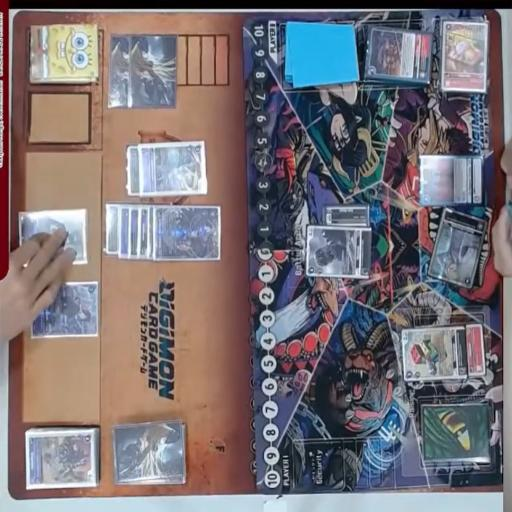card: (24, 426, 98, 491), (427, 212, 488, 289), (18, 206, 88, 266), (29, 279, 99, 339), (399, 324, 469, 384), (139, 140, 208, 200), (364, 30, 433, 84), (154, 206, 220, 262), (303, 227, 371, 281), (419, 153, 485, 208), (441, 20, 489, 95), (322, 204, 370, 235), (465, 322, 485, 377), (125, 144, 144, 198), (105, 203, 120, 255), (138, 204, 151, 262), (128, 203, 141, 260), (118, 205, 130, 263), (147, 207, 156, 260)
